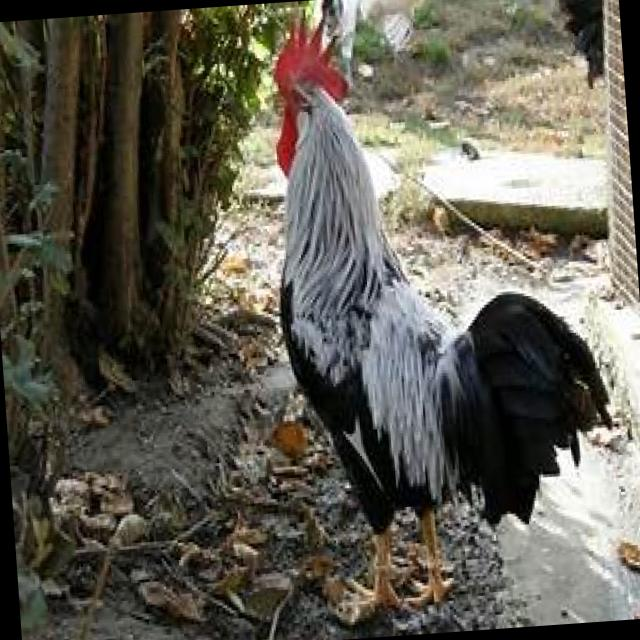chicken: (257, 0, 626, 627)
